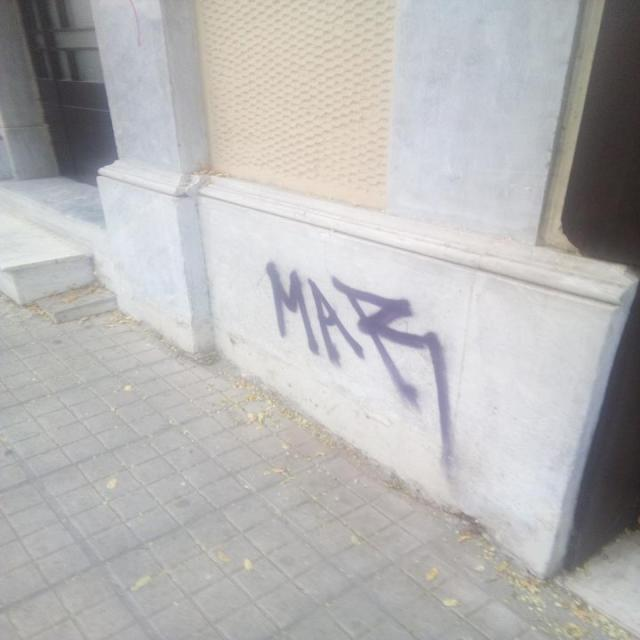nonspitting: (263, 260, 454, 461)
